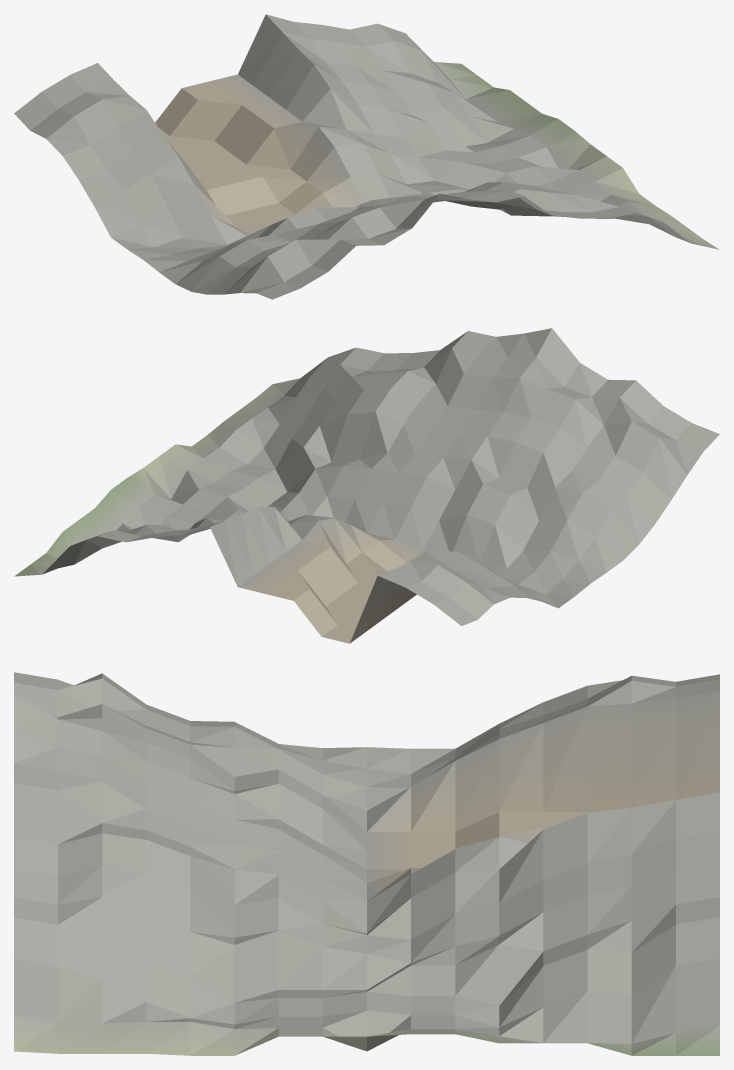
3 renders of one model, top to bottom at view 1: azimuth 30°, elevation 25°; view 2: azimuth 150°, elevation 25°; view 3: azimuth 270°, elevation 25°, orthographic. The views are drawn at different scales.
Size of the model in its own units: 32 by 9.43 by 32.
